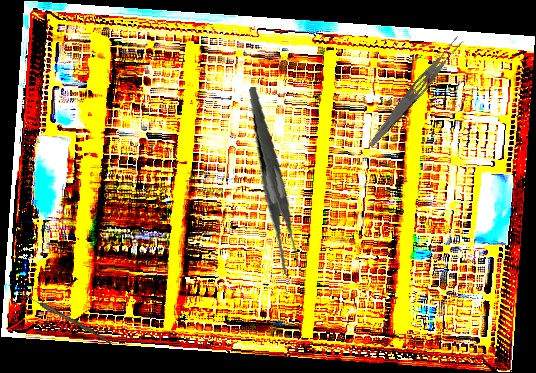Dressing Forceps: (230, 86, 321, 277), (366, 33, 466, 152)
Surgical Spoon: (15, 288, 113, 345)
